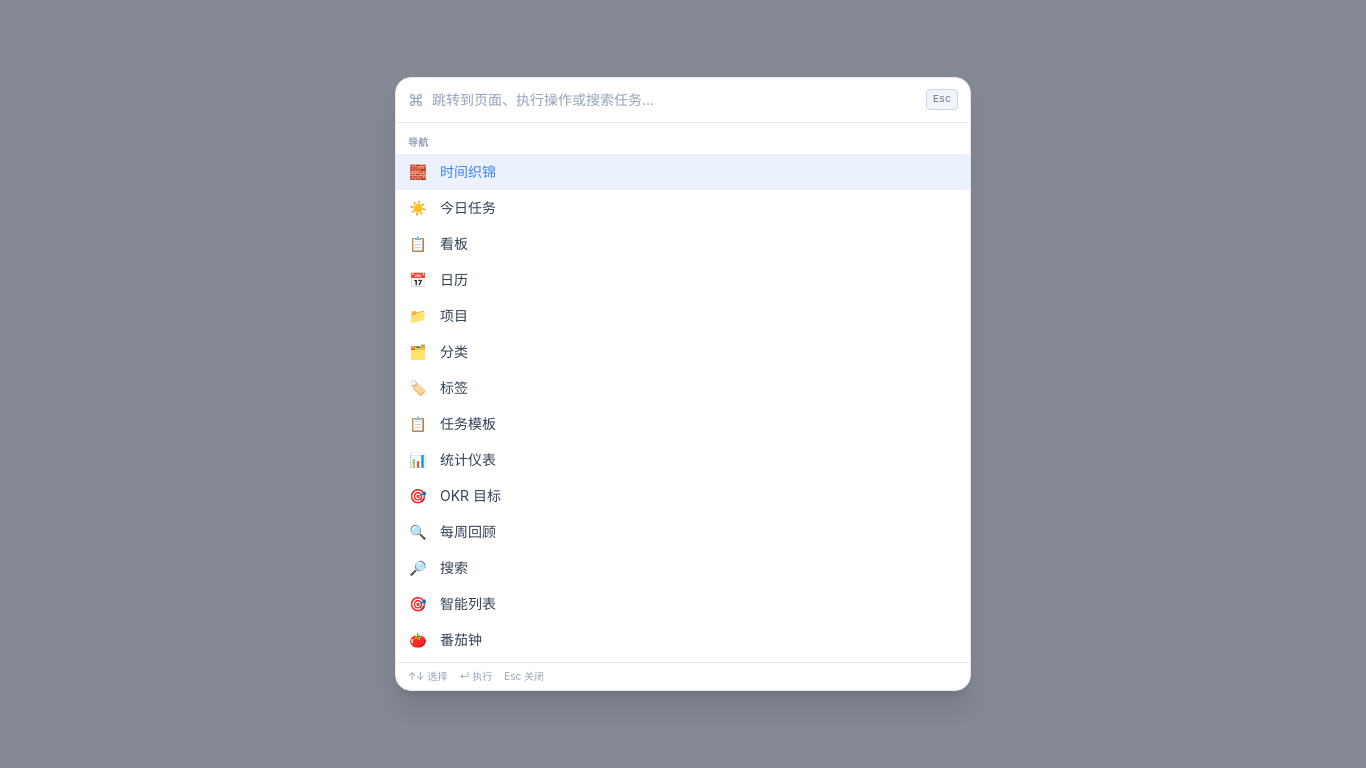
Test: CommandPalette › 输入文字过滤命令:只展示命中项
Type "主题" into the field named "命令搜索" at (675, 100), box [432, 78, 918, 122]
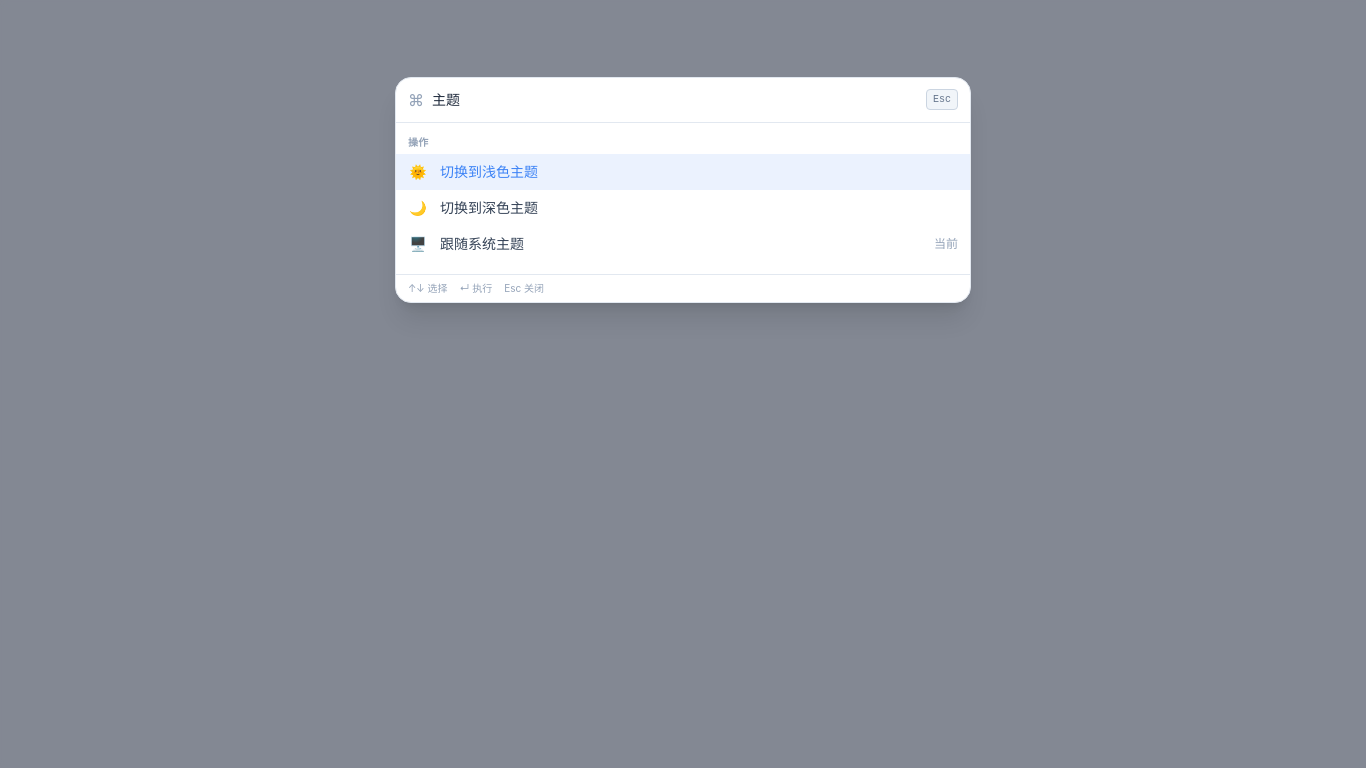
Expected: the text "切换到浅色主题" is shown, [440, 163, 538, 180]
Expected: the text "切换到深色主题" is shown, [440, 199, 538, 216]
Expected: the text "跟随系统主题" is shown, [440, 235, 524, 252]
